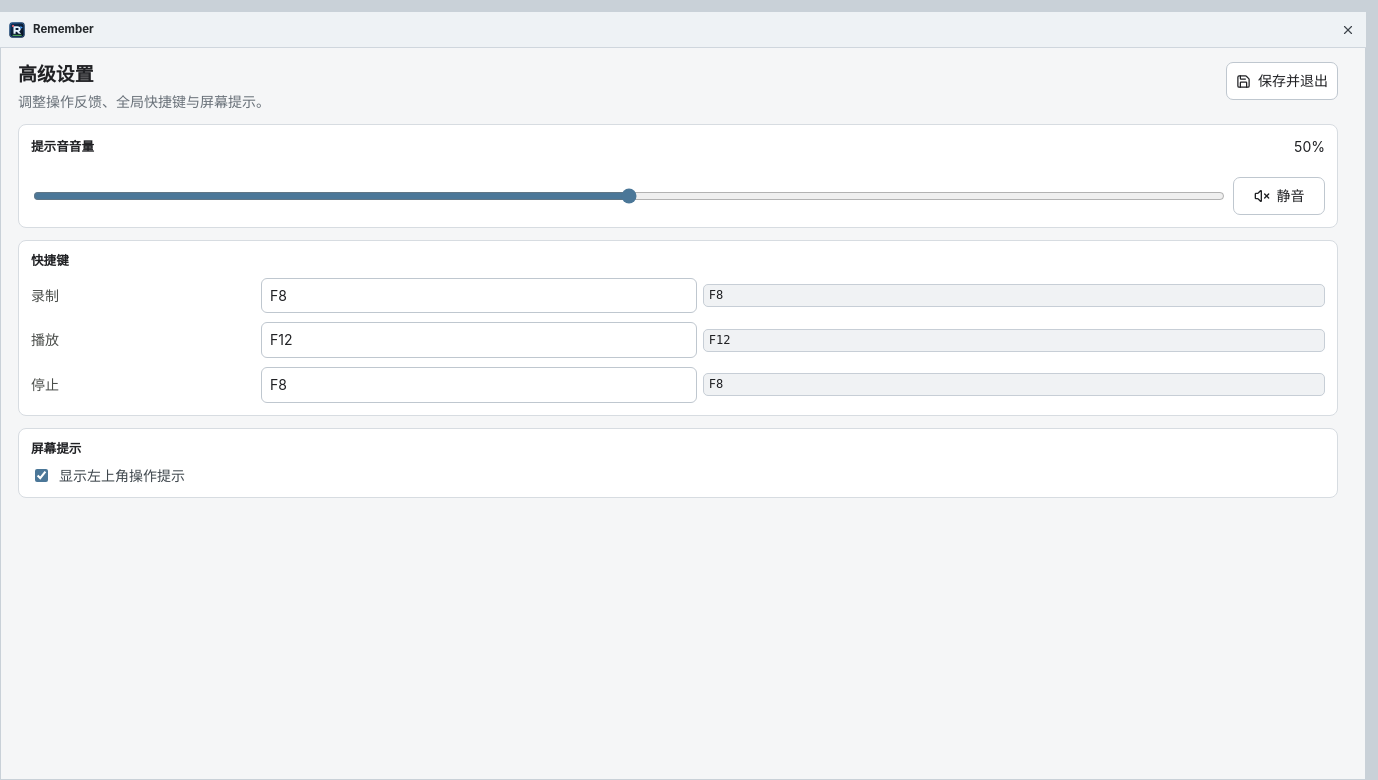
AdvancedSettings › disables and dims the volume slider while muted
Expected: the button "保存并退出" is enabled, [1226, 62, 1338, 100]
Click the button "静音": point(1279, 196) [1233, 177, 1325, 215]
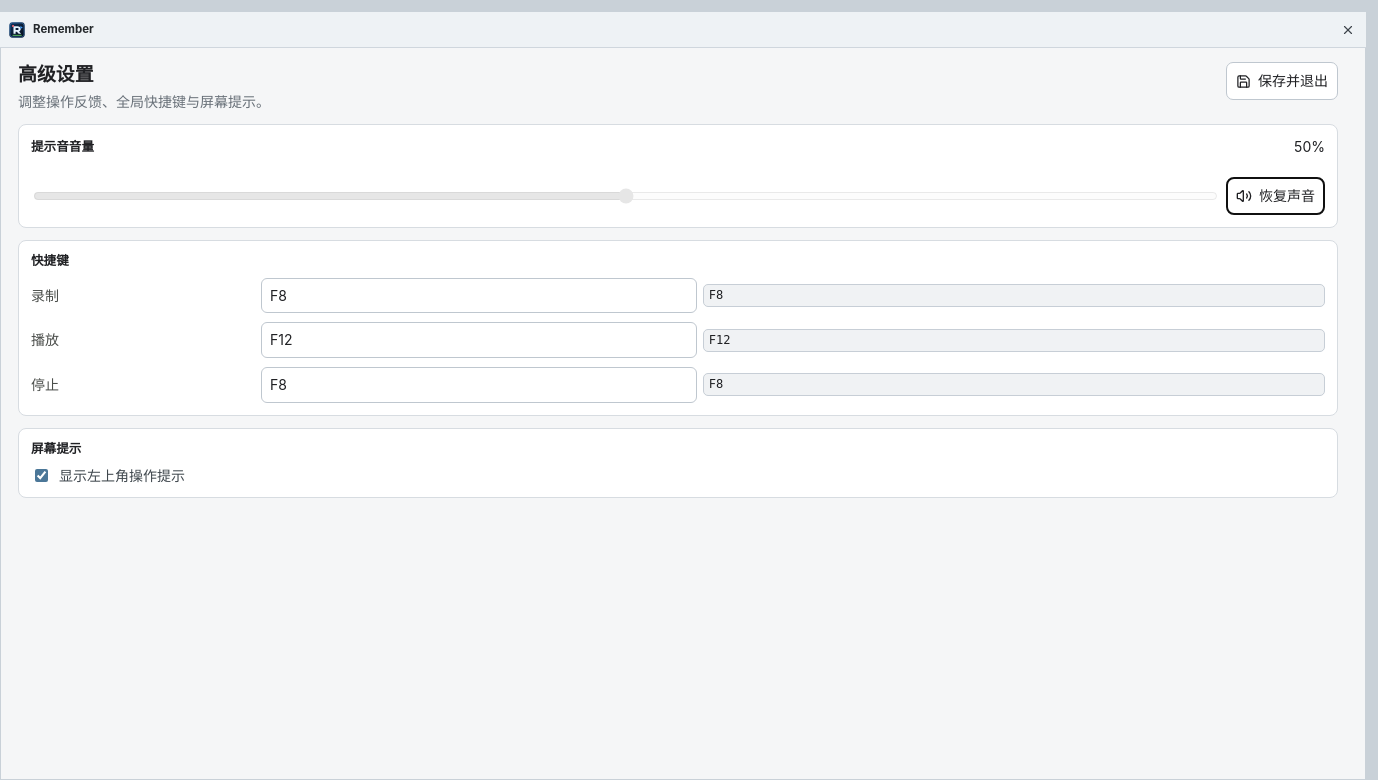
Expected: the slider named "提示音音量" is disabled, [33, 188, 1218, 204]
Click the button "恢复声音": point(1276, 196) [1226, 177, 1325, 215]
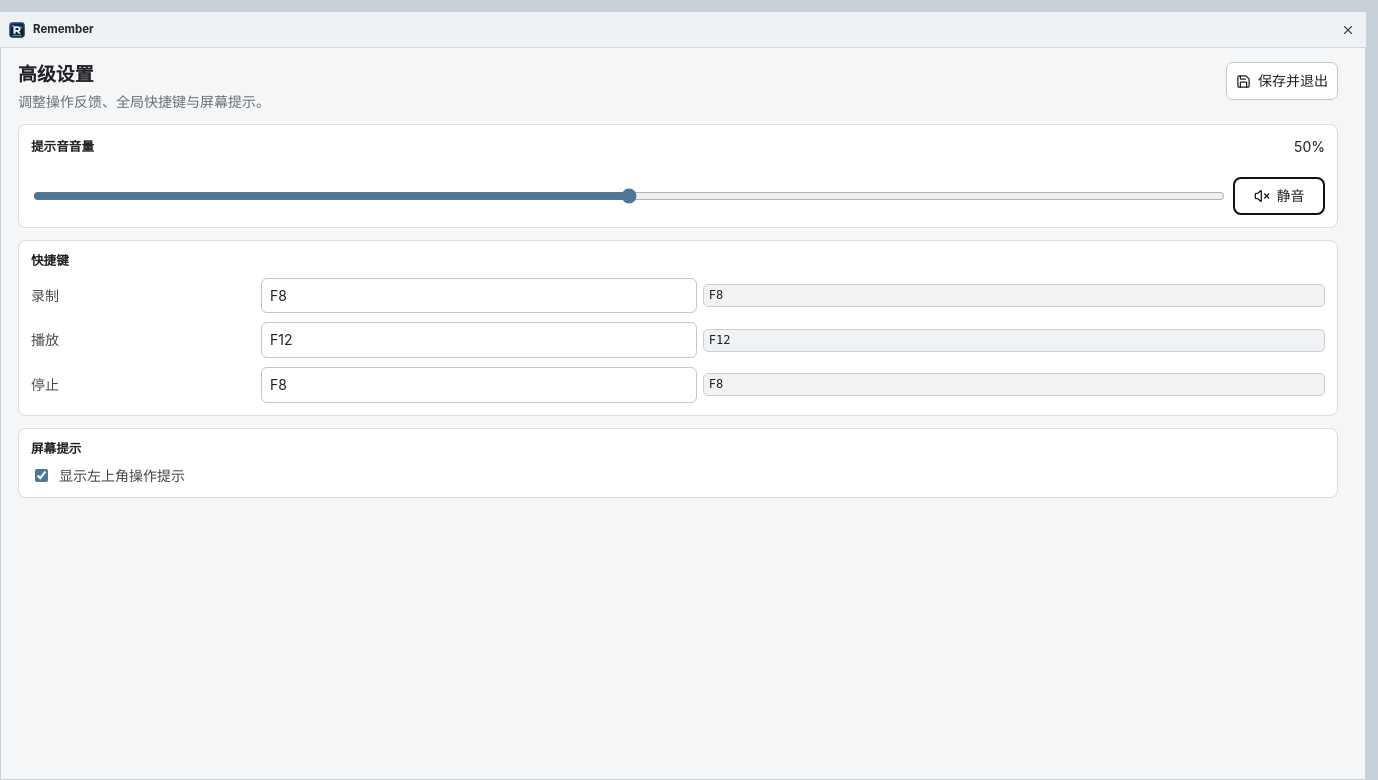
Expected: the slider named "提示音音量" is enabled, [33, 188, 1225, 204]
